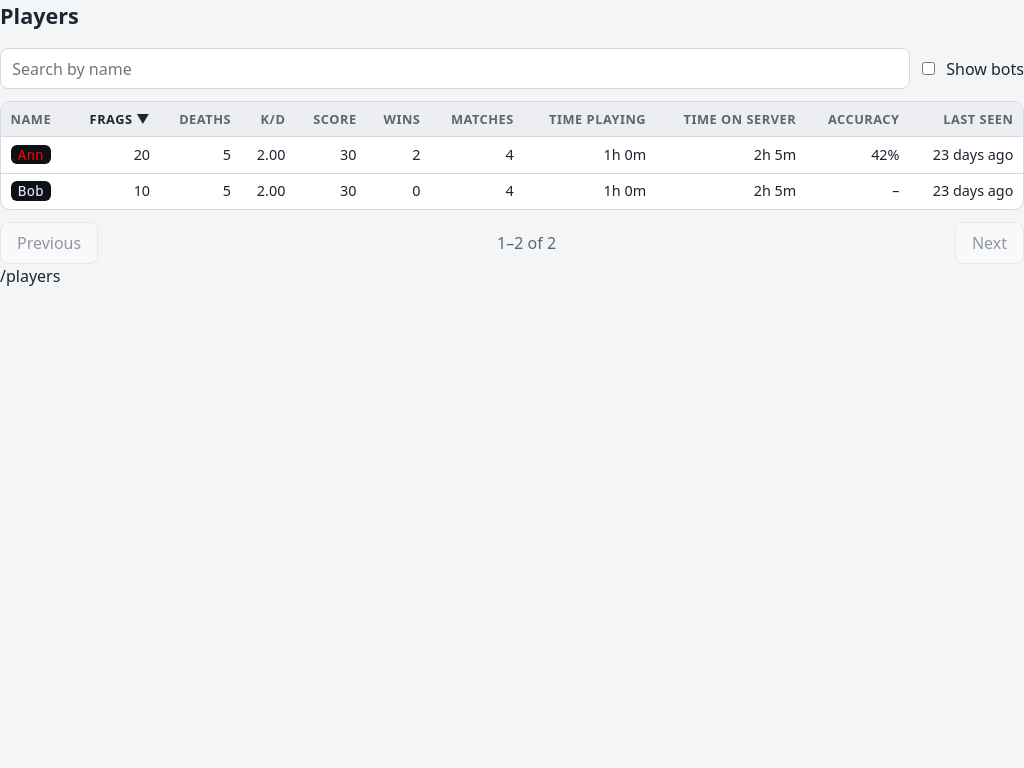
Test case: the player dialog (7.3) › closes with Escape and returns focus to the row
The width and height of the screenshot is (1024, 768).
Click the text "Bob" at (512, 191), box [1,173,1023,209]
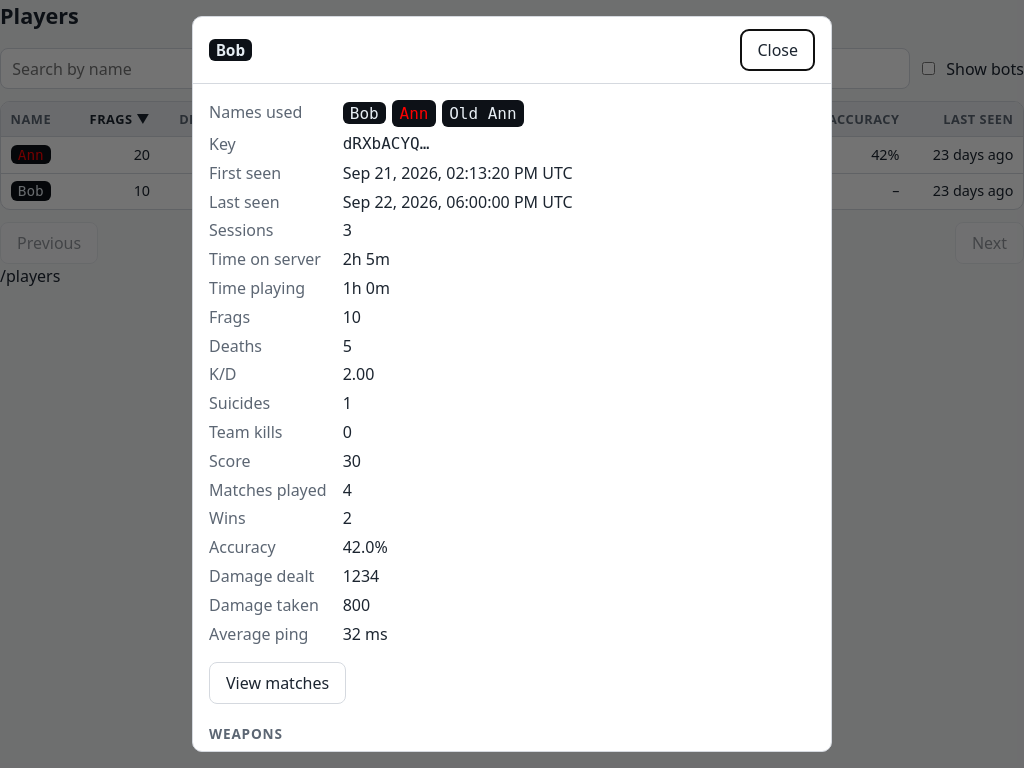
Expected: the dialog is shown, [192,16,832,752]
Press Escape
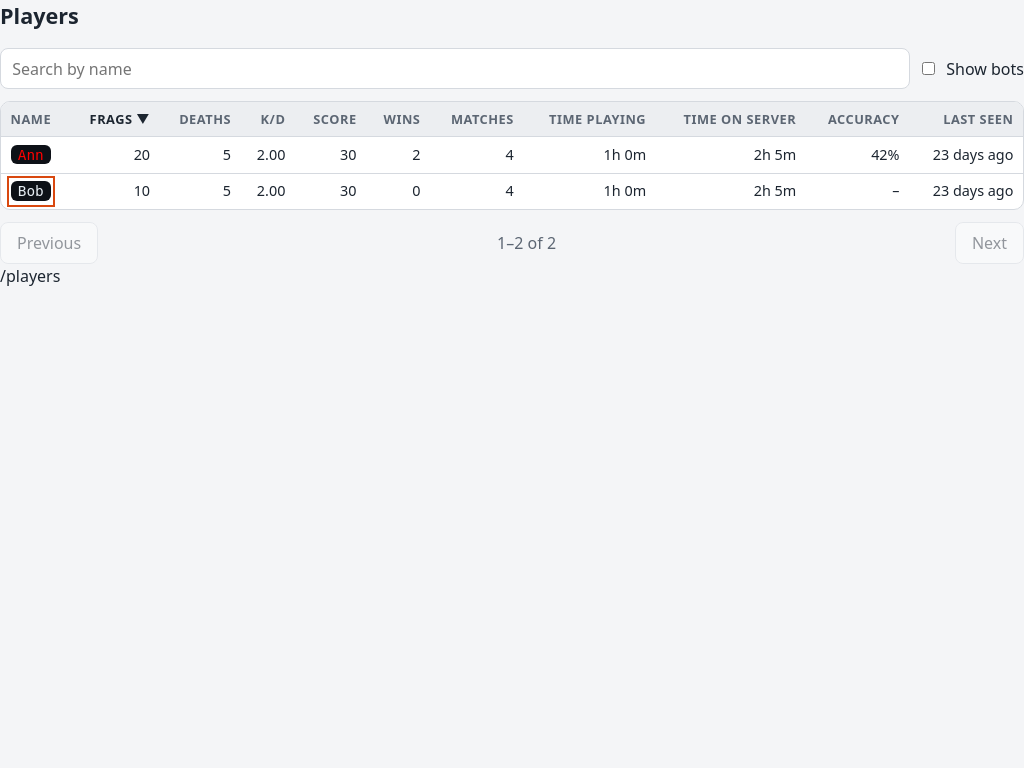
Expected: the dialog is gone
